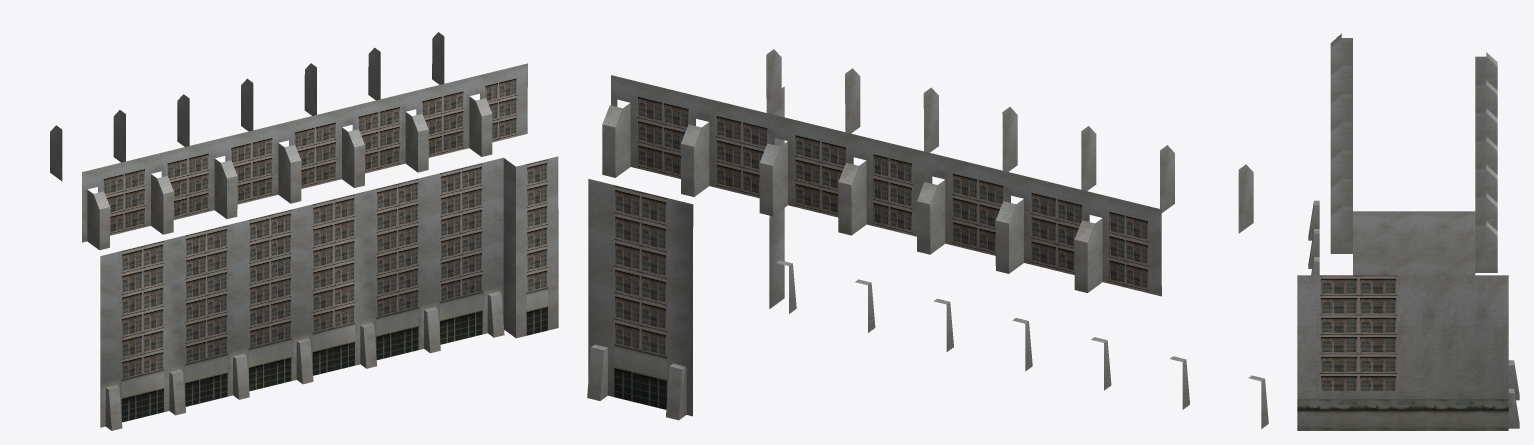
File: M10_Z01_07_Tower01.glb
3 views of the same model, side by side, from view 1: azimuth 30°, elevation 25°; view 2: azimuth 150°, elevation 25°; view 3: azimuth 270°, elevation 25° (orthographic). The views are drawn at different scales.
Visible parts, largest first — view 1: M10_Z01_07_TOWER01; view 2: M10_Z01_07_TOWER01; view 3: M10_Z01_07_TOWER01.
Part boxes in pixels (box(x1,y1,x2,y2)): M10_Z01_07_TOWER01: box(50, 32, 558, 430); M10_Z01_07_TOWER01: box(587, 49, 1268, 428); M10_Z01_07_TOWER01: box(1297, 33, 1519, 430).
Bounding box in the file's own units: 41.97 × 21.78 × 20.
4 materials, 4 textured.
